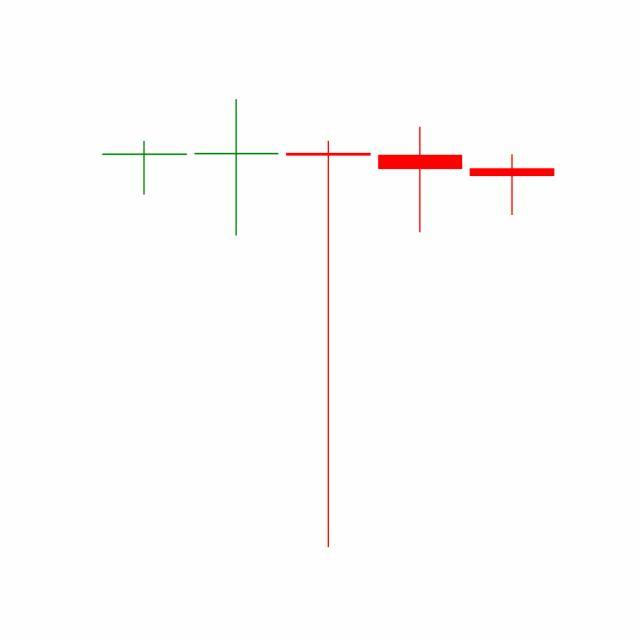Spinning Top: (374, 127, 468, 236)
